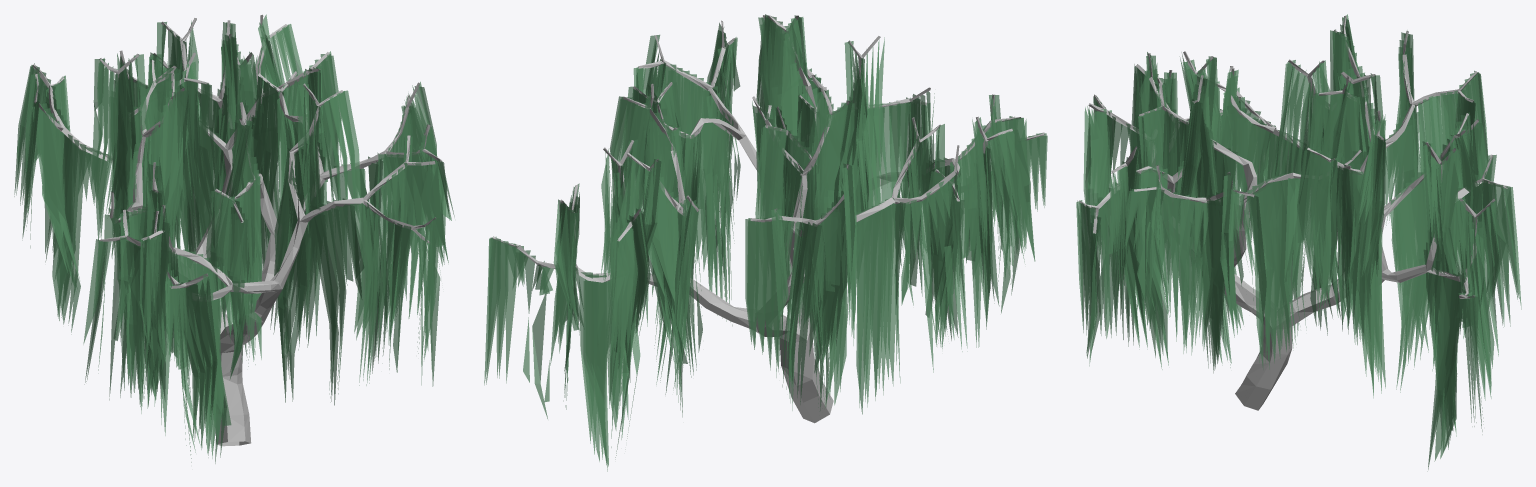
Rendered from WillowTree.fbx.
3 views of the same model, side by side, from view 1: azimuth 30°, elevation 25°; view 2: azimuth 150°, elevation 25°; view 3: azimuth 270°, elevation 25° (orthographic). The views are drawn at different scales.
Parts seen in each view (by area): view 1: willow2Leaf, willow2Main; view 2: willow2Leaf, willow2Main; view 3: willow2Leaf, willow2Main.
Boxes of the visible parts, left/top/right/bottom form: willow2Leaf: left=14, top=14, right=454, bottom=463; willow2Main: left=33, top=14, right=441, bottom=446; willow2Leaf: left=484, top=14, right=1047, bottom=471; willow2Main: left=492, top=15, right=1044, bottom=423; willow2Leaf: left=1076, top=14, right=1521, bottom=471; willow2Main: left=1079, top=15, right=1507, bottom=410.
Bounding box in the file's own units: 19.32 × 19.7 × 21.65.
